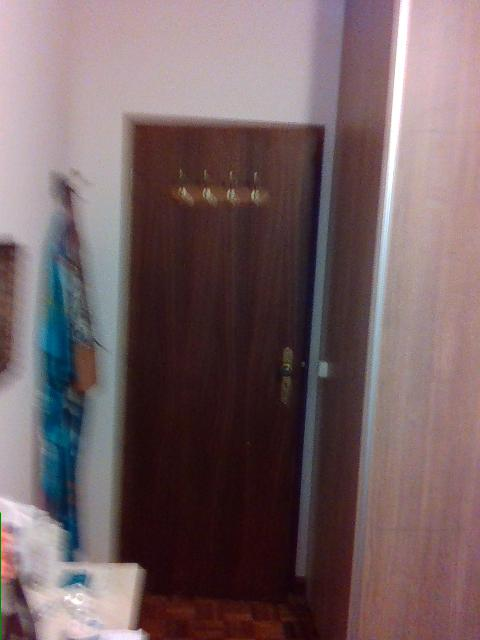door: (113, 114, 327, 603)
